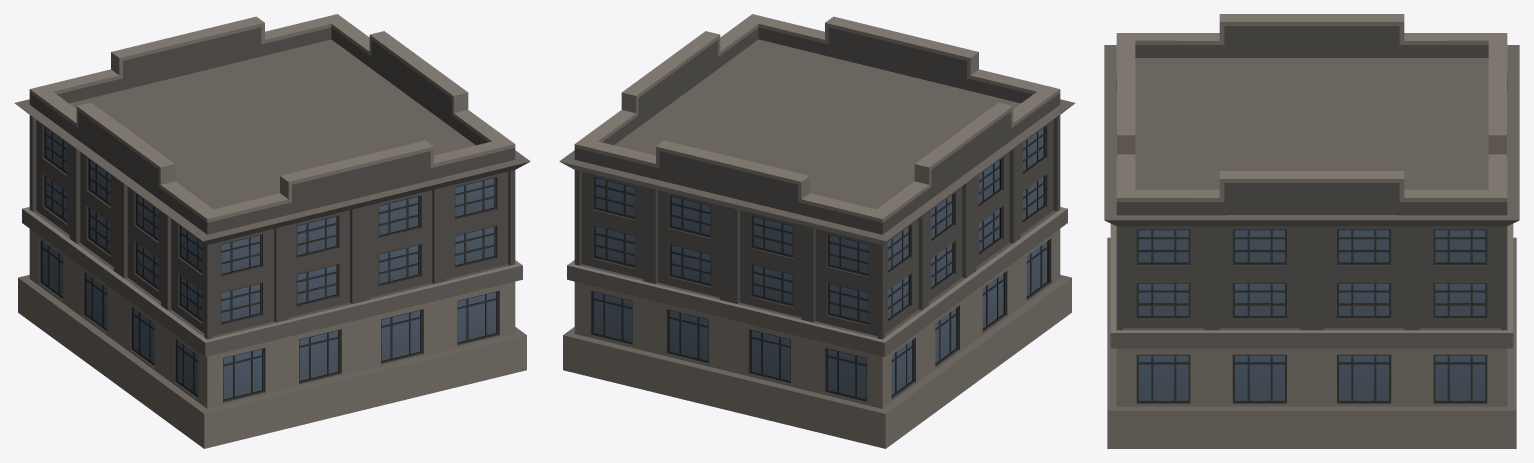
File: Residential_Loft_alt04.glb
3 views of the same model, side by side, from view 1: azimuth 30°, elevation 25°; view 2: azimuth 150°, elevation 25°; view 3: azimuth 270°, elevation 25° (orthographic). The views are drawn at different scales.
Parts seen in each view (by area): view 1: test, windowRefl.081; view 2: test, windowRefl.081; view 3: test, windowRefl.081.
Boxes of the visible parts, x1,y1,x2,y2 form: test: (14,14,530,448); windowRefl.081: (42,128,496,399); test: (559,14,1075,448); windowRefl.081: (593,128,1047,399); test: (1104,14,1519,448); windowRefl.081: (1138,230,1485,400).
Size of the model in its own units: 23.63 by 16.69 by 23.63.
